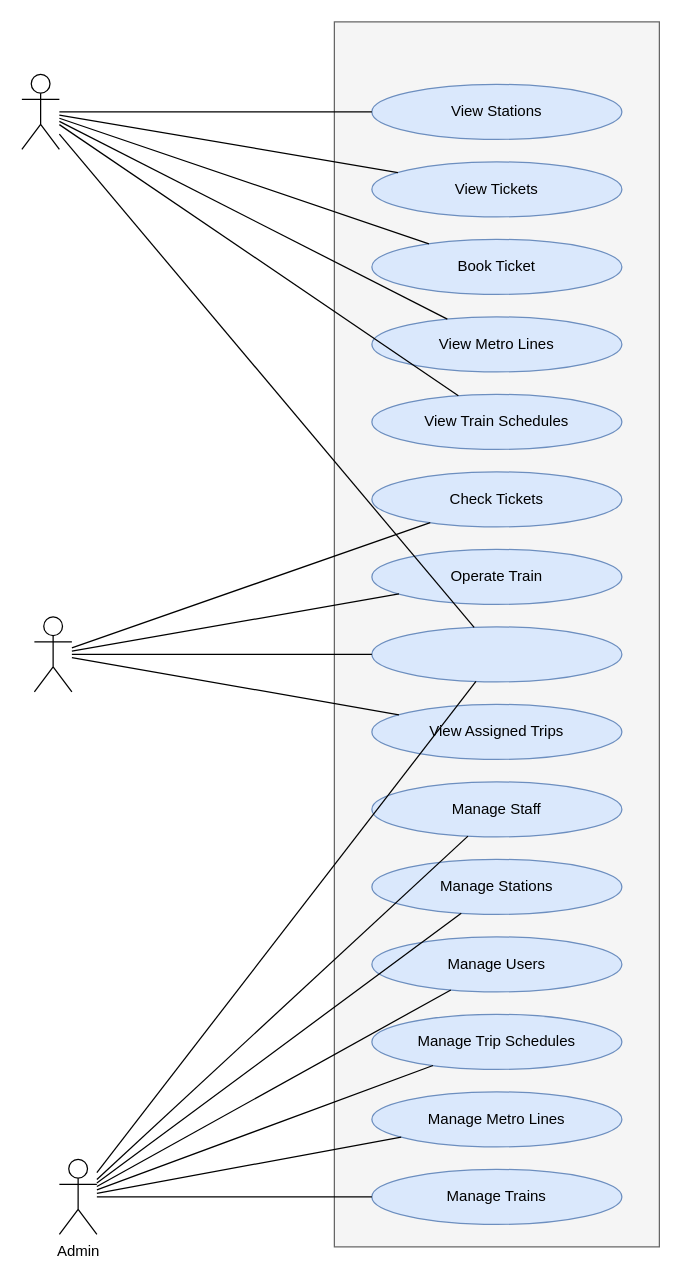
Image size: 681x1283. Some labels were removed from this diagram. Here are the shapes that lost their labels. From the top down, the box of each, then its label:
(21, 73, 59, 149): User
(33, 616, 72, 692): Staff
(333, 21, 659, 1247): Metro Management System
(371, 626, 622, 682): Register / Log In
